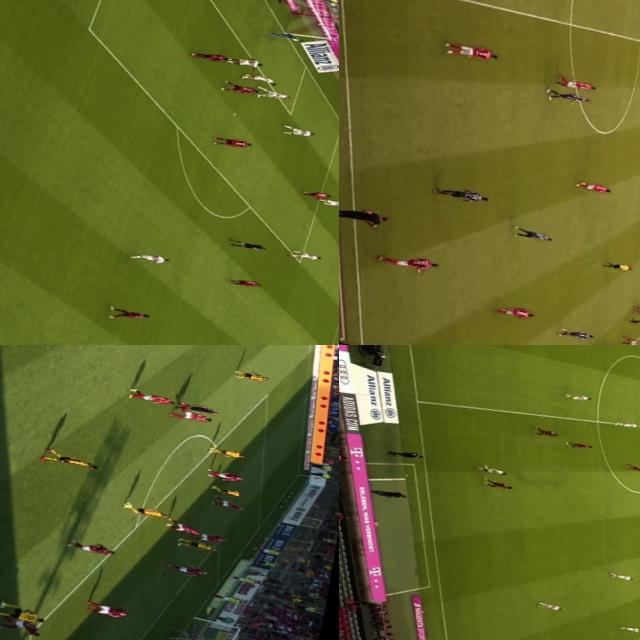ball: (0, 603, 8, 610)
player: (41, 448, 98, 472), (380, 252, 440, 274), (446, 41, 499, 62), (120, 500, 172, 520), (436, 185, 491, 203), (64, 538, 118, 556), (84, 602, 136, 620), (128, 388, 174, 408), (544, 88, 592, 106), (0, 614, 48, 632), (0, 607, 46, 625), (128, 249, 170, 267), (158, 520, 205, 536), (513, 228, 558, 244), (105, 307, 147, 324), (172, 407, 214, 424), (203, 468, 246, 484), (225, 52, 263, 70), (168, 561, 208, 578), (206, 444, 248, 460), (178, 538, 218, 554), (286, 249, 328, 264), (253, 86, 292, 102), (555, 77, 596, 92), (191, 50, 228, 66), (555, 327, 594, 342), (281, 124, 316, 140), (239, 72, 278, 86), (214, 136, 252, 150), (220, 82, 257, 96), (233, 369, 270, 383), (476, 463, 512, 477), (299, 186, 332, 201), (226, 276, 260, 290), (270, 30, 306, 43), (534, 600, 566, 614), (495, 306, 532, 318), (209, 485, 245, 497), (482, 478, 514, 491), (169, 628, 202, 640), (530, 426, 562, 438), (608, 570, 637, 583), (576, 182, 610, 193), (213, 498, 245, 509), (564, 441, 596, 452), (564, 392, 594, 403), (196, 532, 228, 542), (318, 196, 339, 211), (612, 624, 640, 634), (613, 420, 640, 430), (623, 463, 640, 476), (623, 317, 640, 326), (593, 341, 624, 345), (624, 338, 640, 345), (633, 305, 640, 314)
